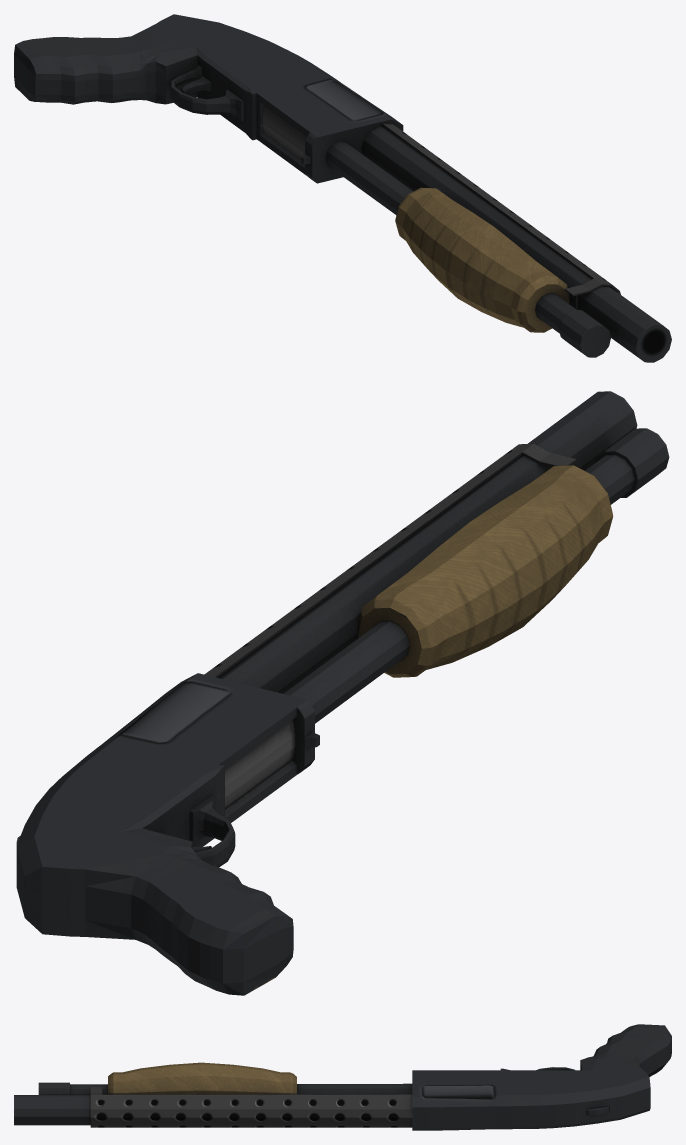
Rendered from pistol_grip_pump_shotgun.obj.
3 renders of one model, top to bottom at view 1: azimuth 30°, elevation 25°; view 2: azimuth 150°, elevation 25°; view 3: azimuth 270°, elevation 25°, orthographic. The views are drawn at different scales.
Parts seen in each view (by area): view 1: mesh_Cube.001; view 2: mesh_Cube.001; view 3: mesh_Cube.001.
Boxes of the visible parts, x1,y1,x2,y2 form: mesh_Cube.001: [14, 14, 671, 362]; mesh_Cube.001: [16, 391, 669, 995]; mesh_Cube.001: [14, 1024, 671, 1130].
Bounding box in the file's own units: 3.55 × 1.13 × 12.44.
